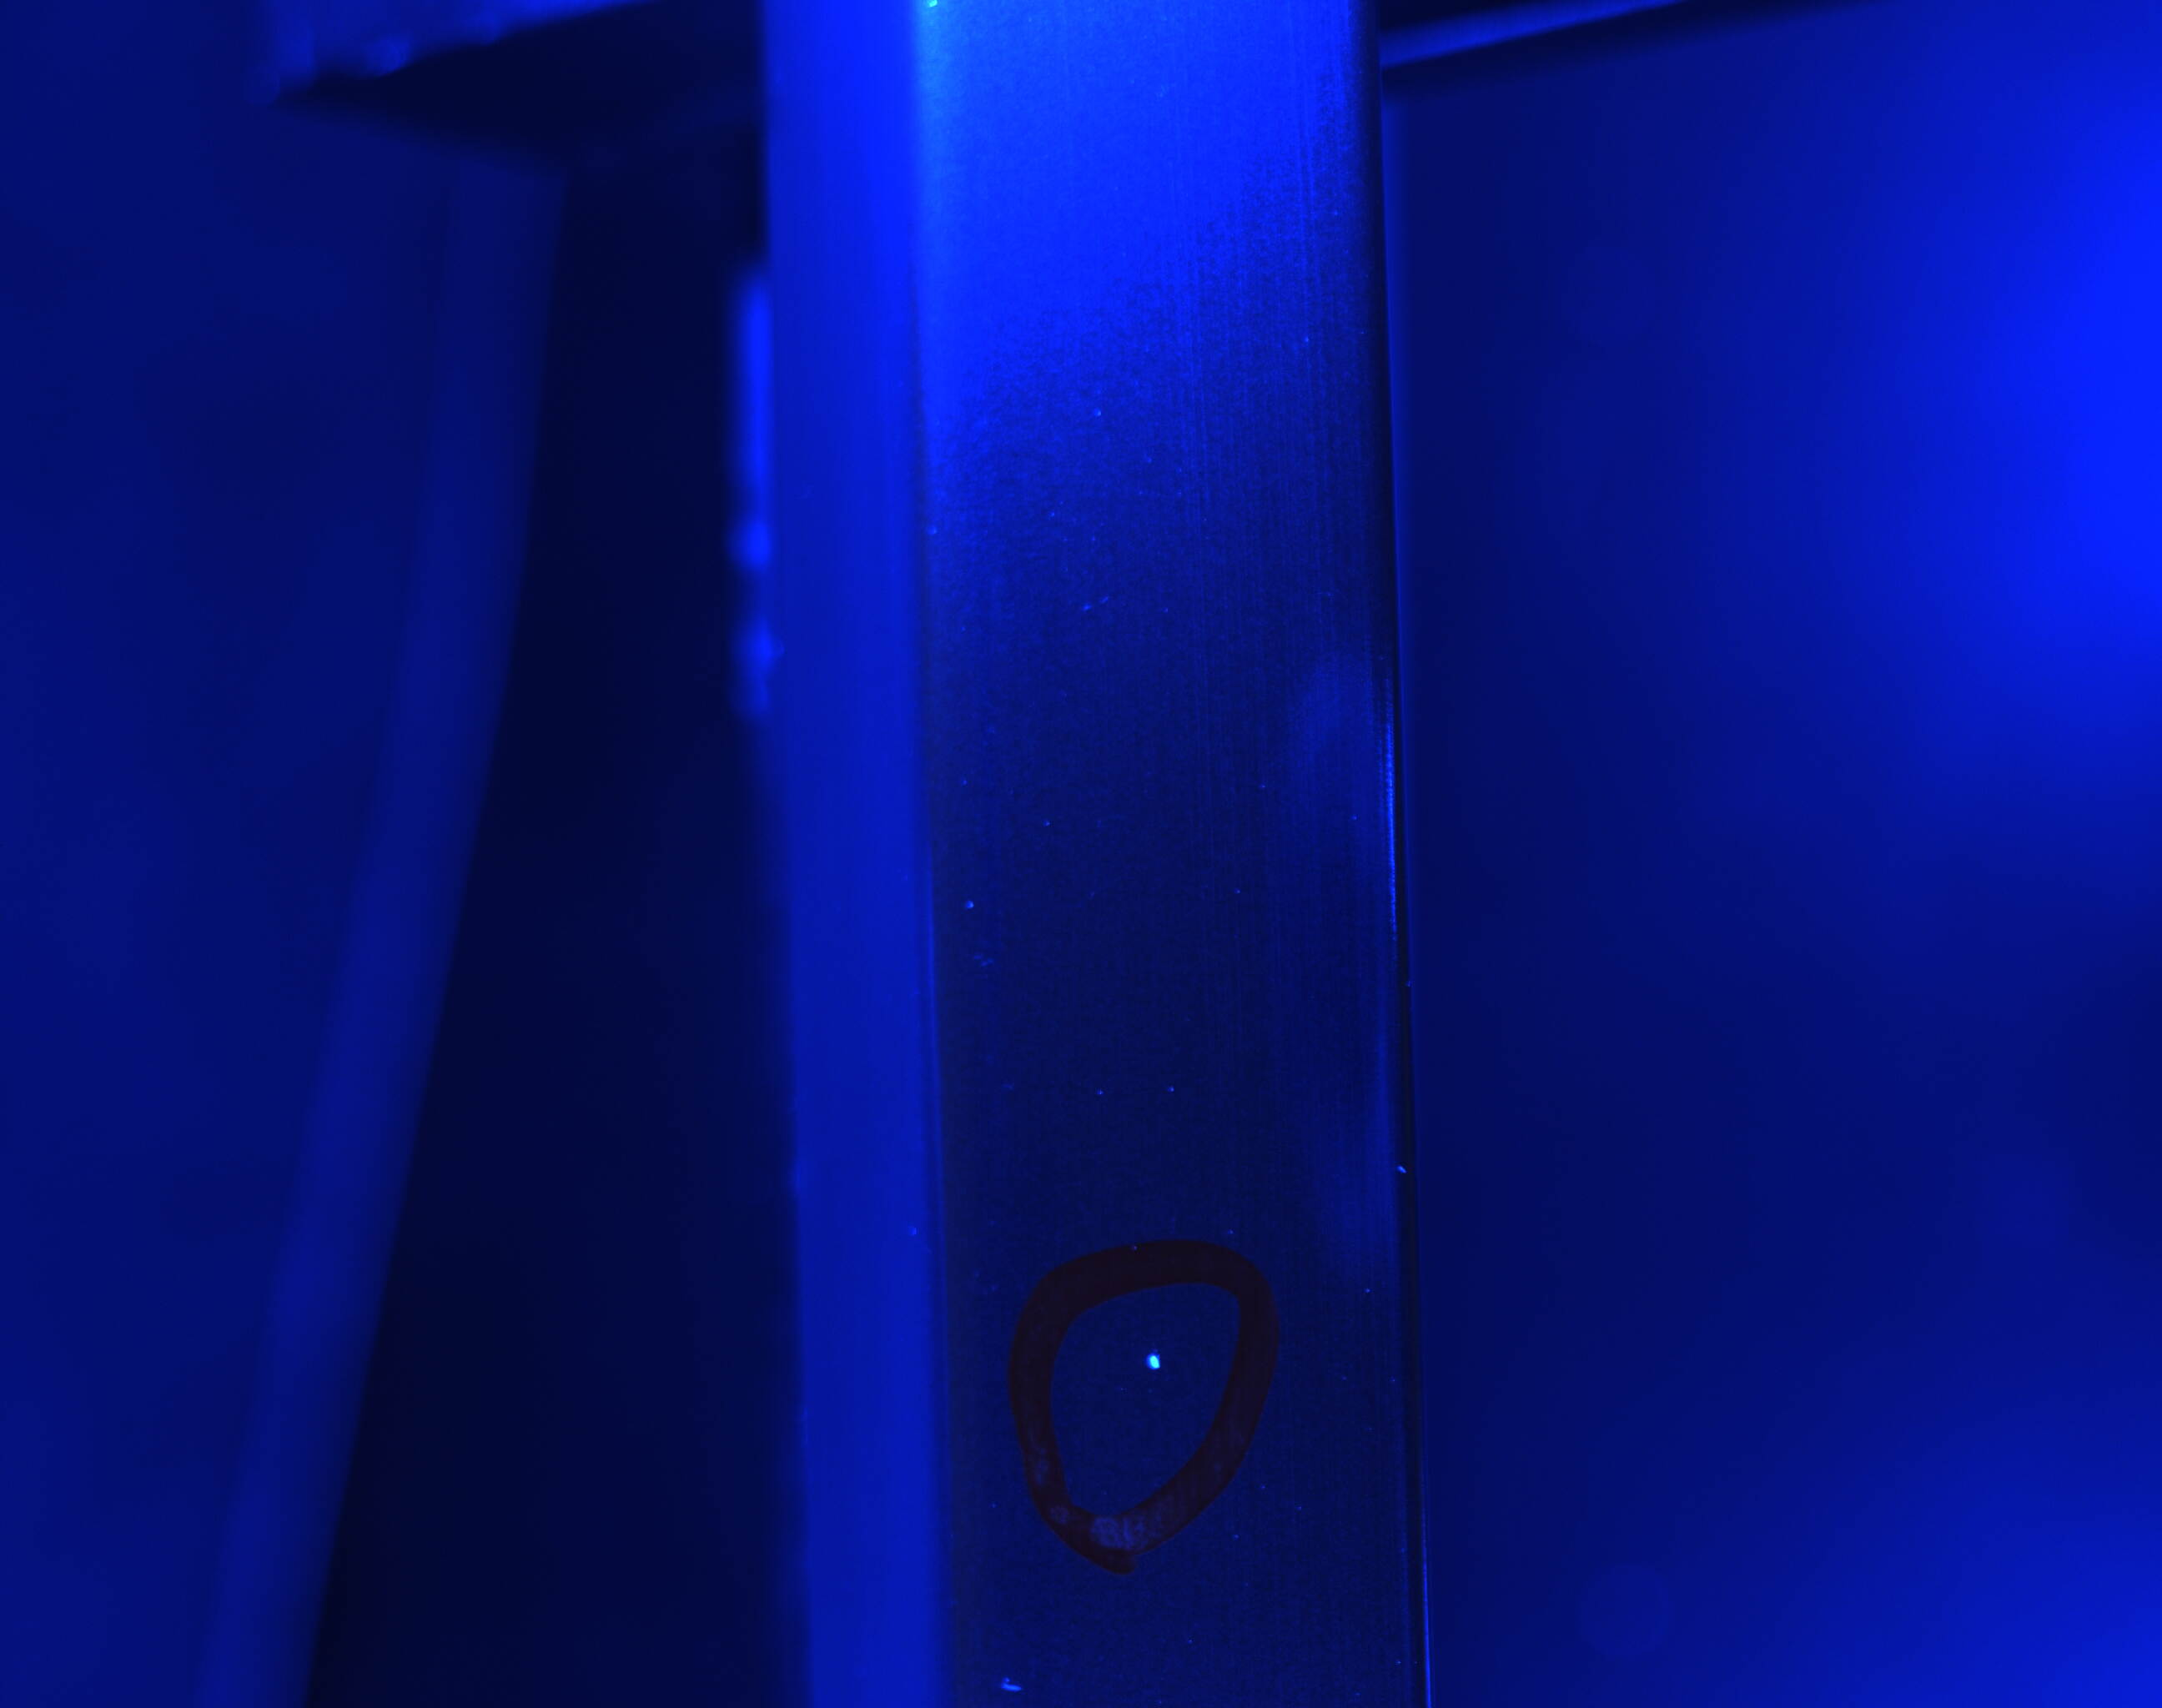NG: (1114, 1318, 1183, 1410)
